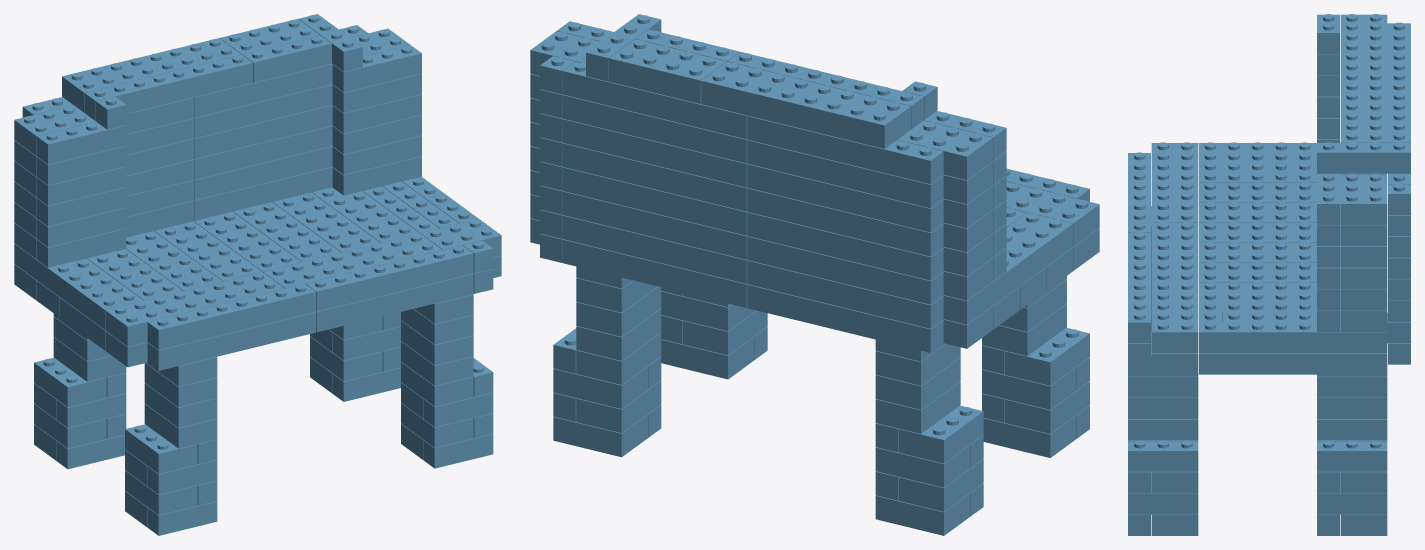
The model's file is 040_bench_L5.glb.
3 renders of one model, left to right at view 1: azimuth 30°, elevation 25°; view 2: azimuth 150°, elevation 25°; view 3: azimuth 270°, elevation 25°, orthographic. The views are drawn at different scales.
Size of the model in its own units: 18.98 by 17.13 by 11.98.
